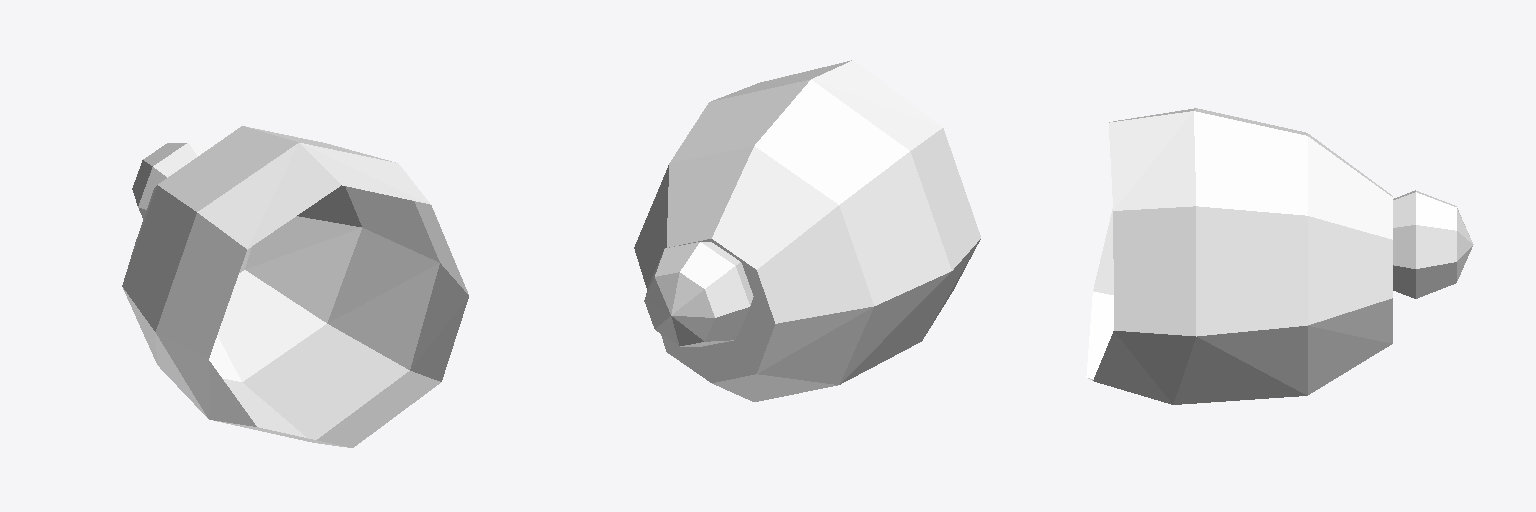
File: Nose.obj
3 renders of one model, left to right at view 1: azimuth 30°, elevation 25°; view 2: azimuth 150°, elevation 25°; view 3: azimuth 270°, elevation 25°, orthographic.
Visible parts, largest first — view 1: Nose1; view 2: Nose1; view 3: Nose1.
Boxes of the visible parts, <box> form: Nose1: <box>122,126,468,447</box>; Nose1: <box>634,60,980,401</box>; Nose1: <box>1086,108,1473,404</box>.
Bounding box in the file's own units: 1.87 × 1.82 × 2.21.